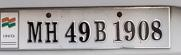0: (137, 18, 150, 42)
1: (111, 19, 124, 43)
4: (62, 20, 78, 45)
8: (151, 18, 164, 41)
9: (123, 21, 137, 42), (77, 21, 91, 42)
B: (94, 18, 108, 46)
H: (45, 20, 60, 44)
M: (25, 20, 43, 45)
